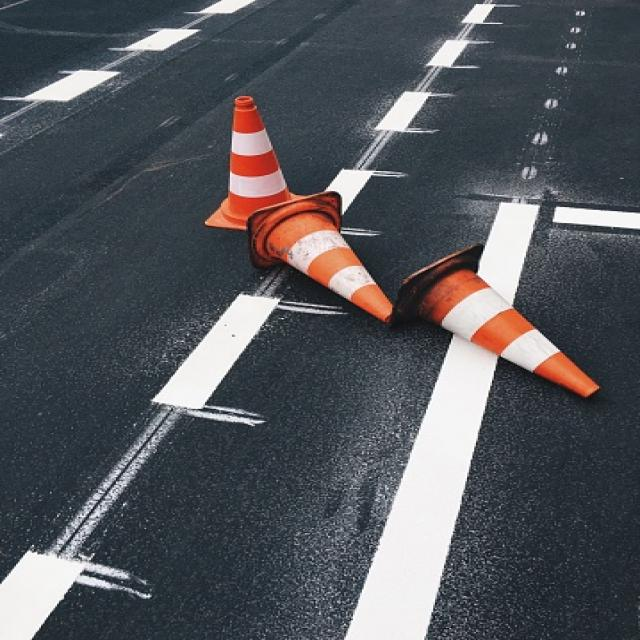cone: (392, 234, 610, 403), (248, 158, 395, 321), (192, 82, 312, 241)
